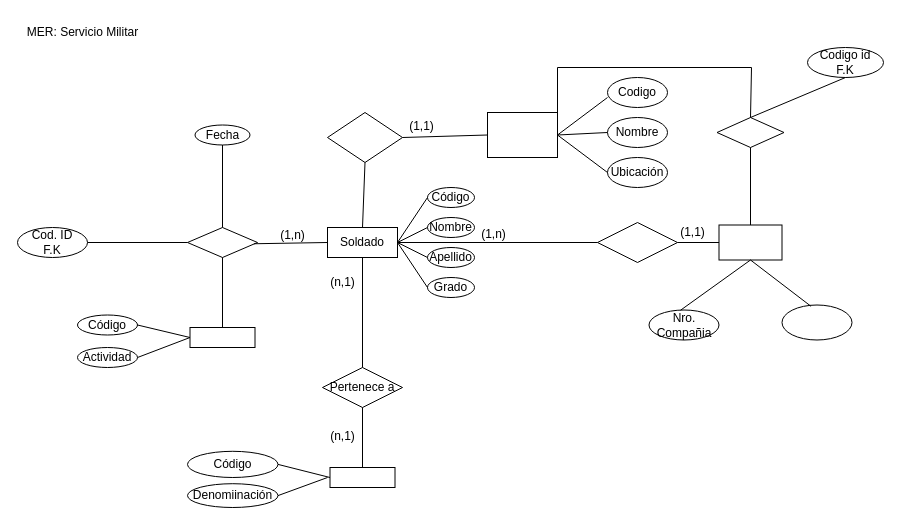
This 901x525 diagram has some shape labels left out. The shapes that lost their labels are listed below. From the top down, each one's centre as x and y in pixels, then its label:
At point (364, 137): "Esta".
At point (522, 135): "Cuartel".
At point (750, 132): "Tiene".
At point (222, 242): "Realiza".
At point (637, 242): "Agrupación".
At point (750, 242): "Compañia".
At point (222, 337): "Servicio".
At point (362, 477): "Cuerpo".
